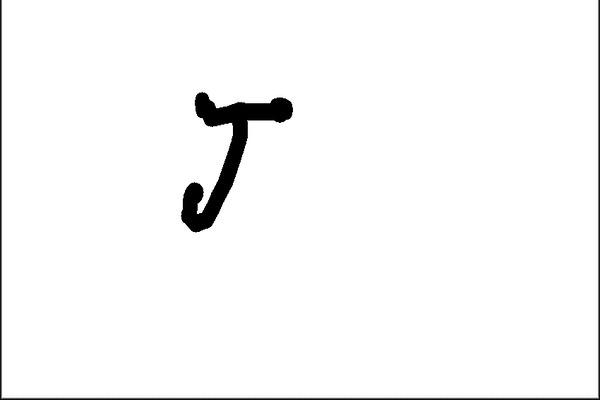J: (173, 86, 299, 238)
